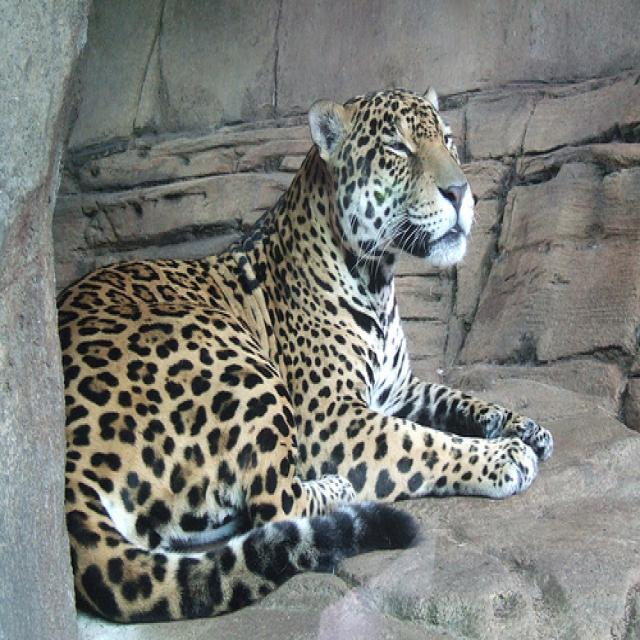Leopard: (55, 84, 553, 623)
